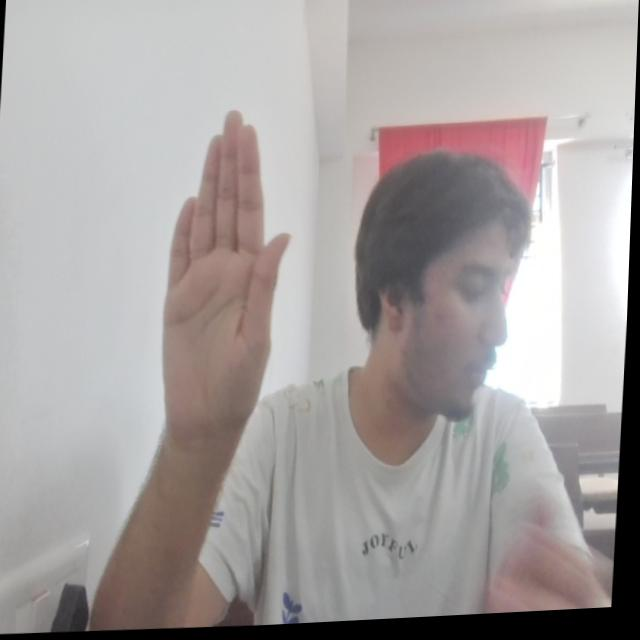hello: (155, 97, 301, 451)
